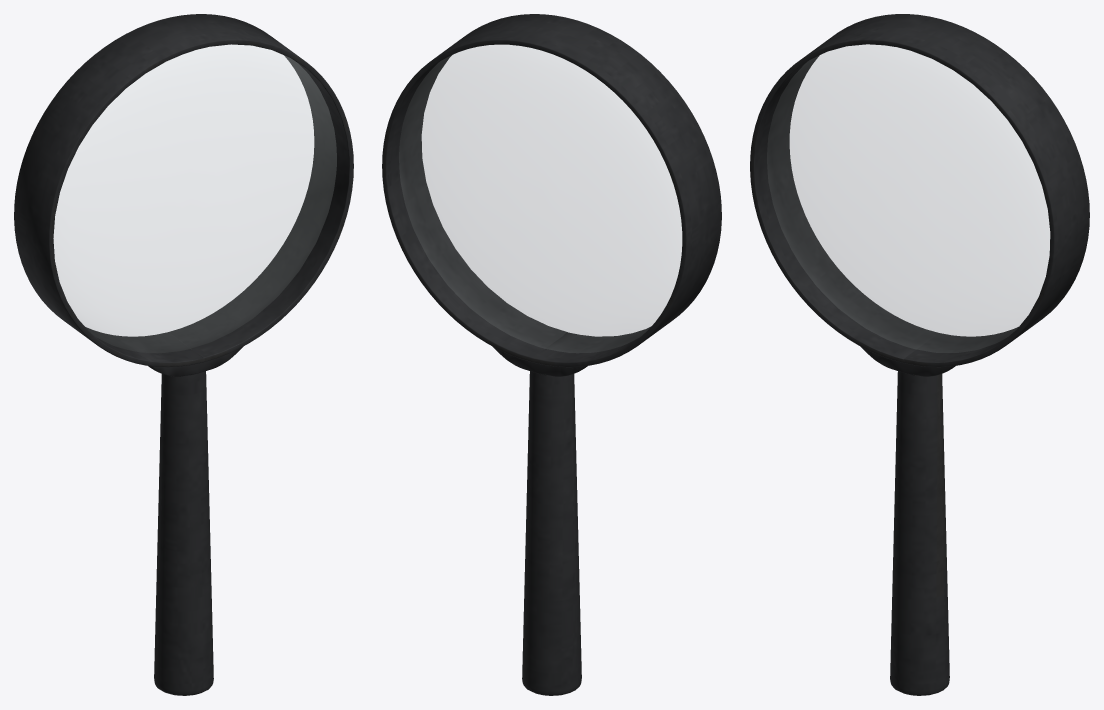
The model's file is magnifying_glass_01.glb.
3 views of the same model, side by side, from view 1: azimuth 30°, elevation 25°; view 2: azimuth 150°, elevation 25°; view 3: azimuth 330°, elevation 25° (orthographic).
Parts seen in each view (by area): view 1: magnifying_glass_01; view 2: magnifying_glass_01; view 3: magnifying_glass_01.
Part boxes in pixels (left/top/right/bottom): magnifying_glass_01: left=14, top=14, right=353, bottom=695; magnifying_glass_01: left=382, top=14, right=721, bottom=695; magnifying_glass_01: left=750, top=14, right=1089, bottom=695.
Size of the model in its own units: 0.1321 by 0.2715 by 0.0268.
Materials: 2 (1 with a texture image).
